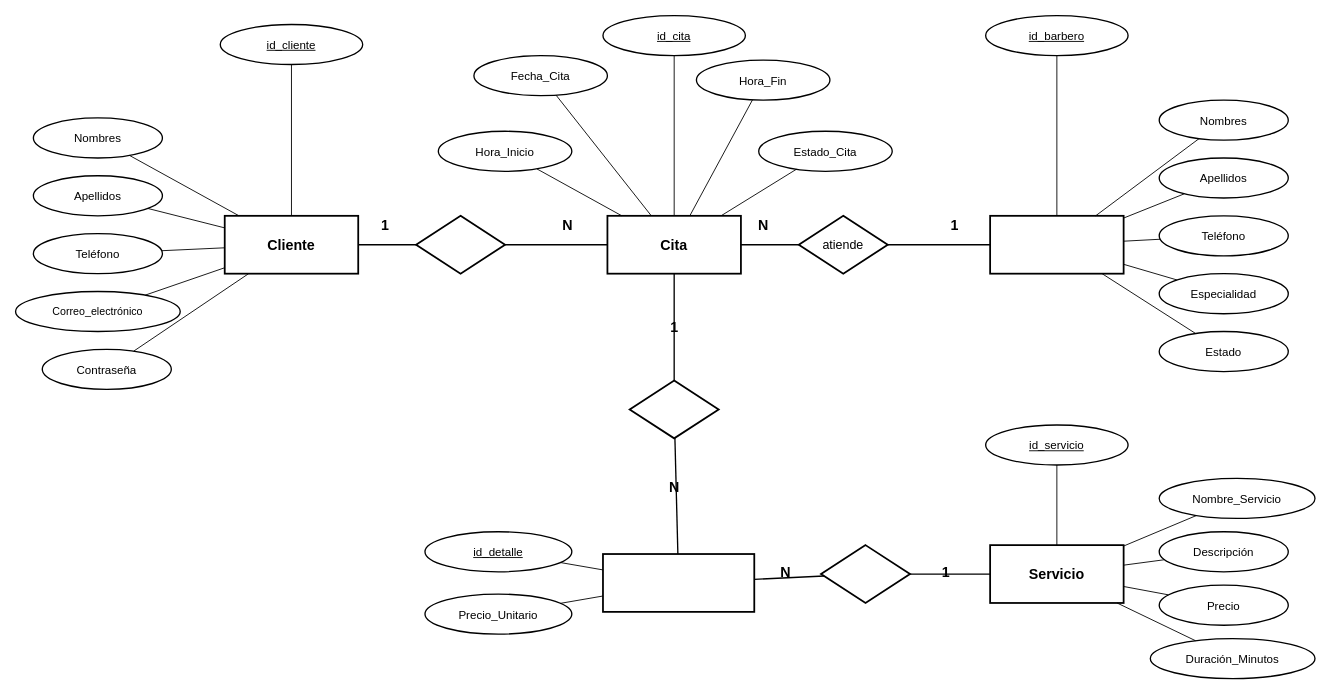
This 1331x695 diagram has some shape labels left out. The shapes that lost their labels are listed below. From the top down, each one's centre as x and y in pixels, then its label:
At point 460,244: "realiza".
At point 1056,244: "Barbero".
At point 673,409: "tiene".
At point 678,582: "Detalle_Cita".
At point 865,573: "incluye".
